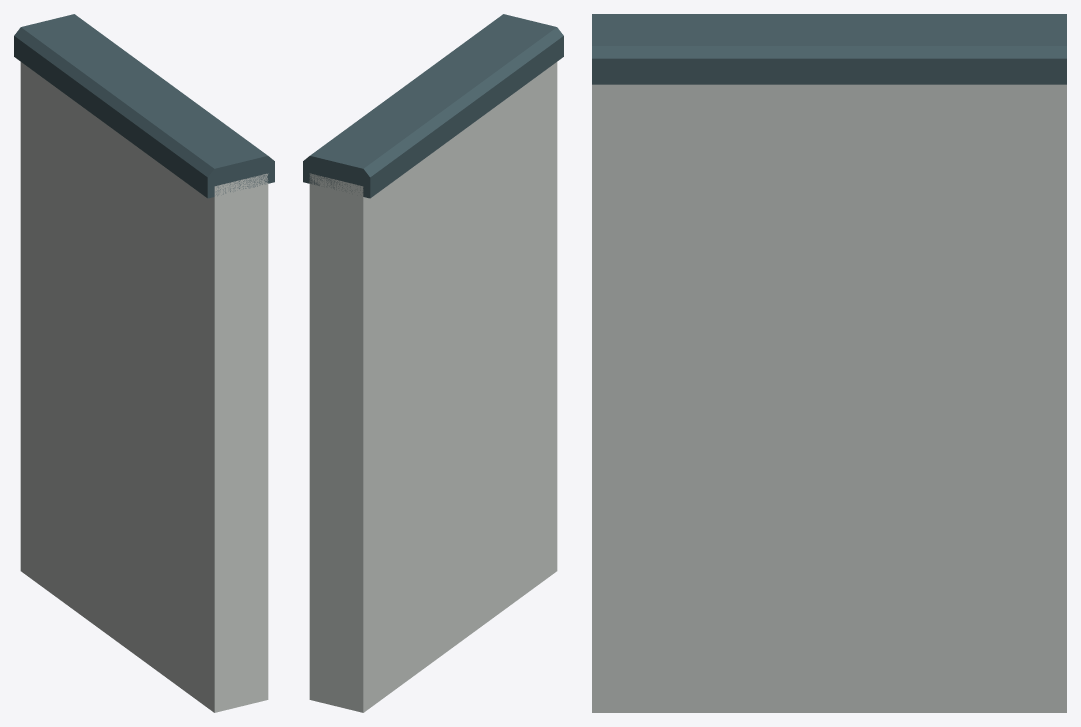
The model's file is halfwall_straight_50cm.glb.
The picture shows the model from 3 angles, left to right: view 1: azimuth 30°, elevation 25°; view 2: azimuth 150°, elevation 25°; view 3: azimuth 270°, elevation 25°; orthographic projection. The views are drawn at different scales.
Visible parts, largest first — view 1: Seamless solid halfwall, Seamless top cap; view 2: Seamless solid halfwall, Seamless top cap; view 3: Seamless solid halfwall, Seamless top cap.
Boxes of the visible parts, bbox=[...] form: Seamless solid halfwall: bbox=[20, 62, 268, 712]; Seamless top cap: bbox=[14, 14, 274, 198]; Seamless solid halfwall: bbox=[309, 62, 557, 712]; Seamless top cap: bbox=[303, 14, 563, 198]; Seamless solid halfwall: bbox=[592, 84, 1066, 712]; Seamless top cap: bbox=[592, 14, 1066, 84].
Bounding box in the file's own units: 0.1 × 0.775 × 0.5.
